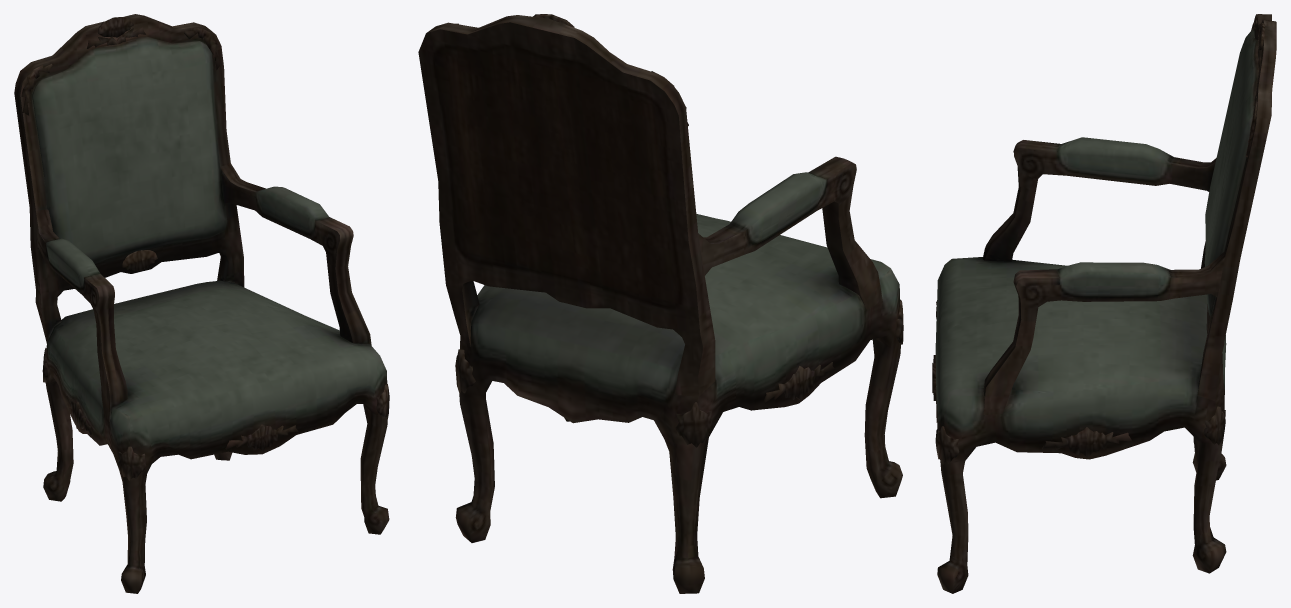
The model's file is GreenChair_01.glb.
3 views of the same model, side by side, from view 1: azimuth 30°, elevation 25°; view 2: azimuth 150°, elevation 25°; view 3: azimuth 270°, elevation 25° (orthographic). The views are drawn at different scales.
Visible parts, largest first — view 1: GreenChair_01; view 2: GreenChair_01; view 3: GreenChair_01.
Part boxes in pixels (x1,y1,x2,y2): GreenChair_01: (14, 14, 389, 593); GreenChair_01: (418, 14, 903, 593); GreenChair_01: (932, 14, 1276, 593).
Size of the model in its own units: 0.6723 by 1.06 by 0.6644.
Materials: 1 (1 with a texture image).
